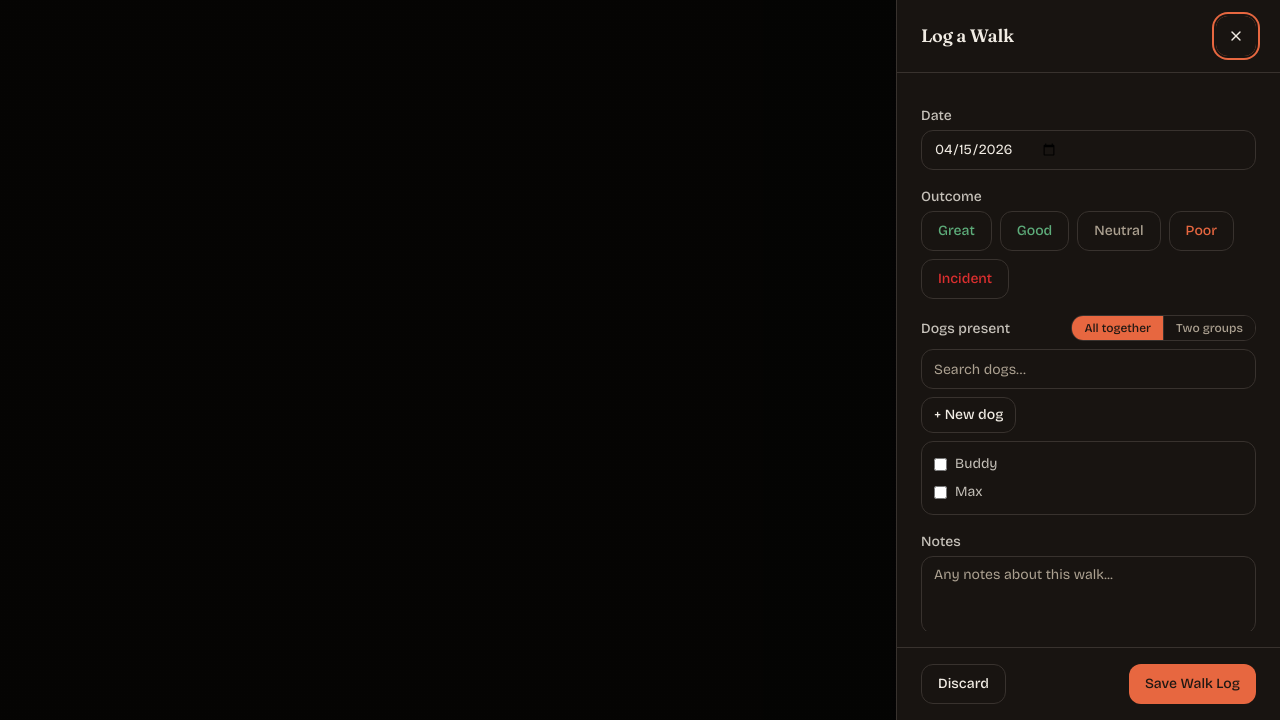
Scenario: WalkLogSheet - Validation › shows "Please select an outcome." when saving without outcome
# Select a dog so only outcome is missing
Click the checkbox labelled "Buddy" at coordinates (940, 464), box x1=934 y1=458 x2=947 y2=470
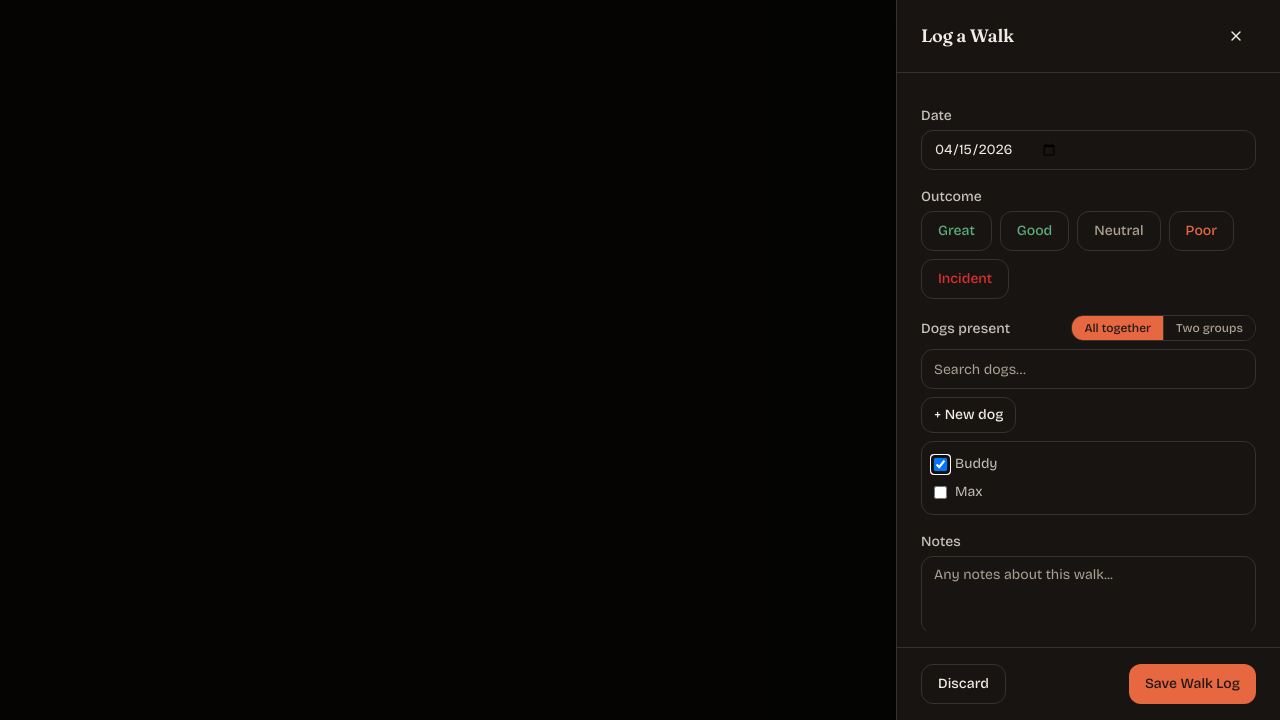
Click the button "Save Walk Log" at coordinates (1192, 684), box x1=1129 y1=664 x2=1256 y2=704
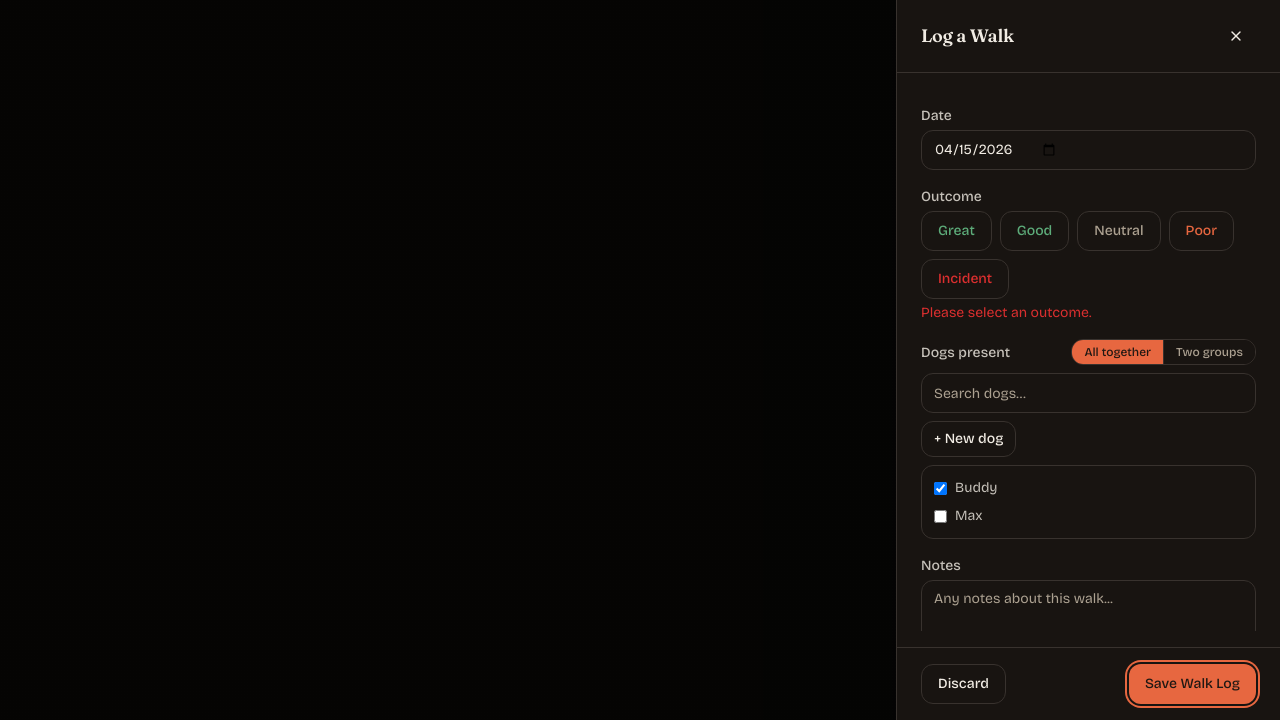
Check: the text "Please select an outcome." is shown, box x1=921 y1=304 x2=1091 y2=321
